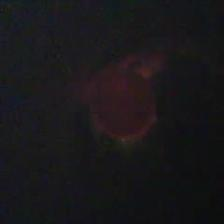fertile: (82, 60, 161, 145)
